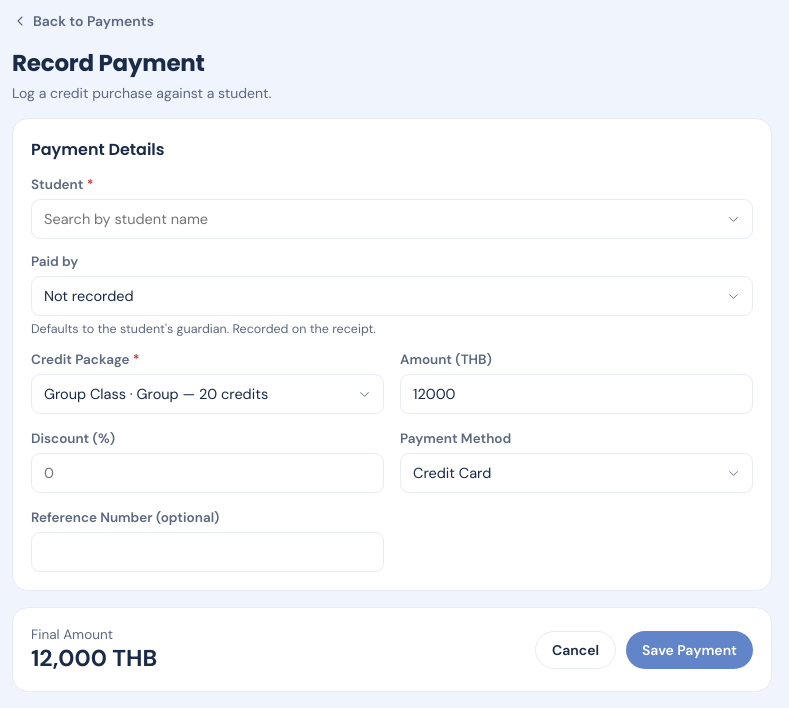
Scenario: picking a guardian › narrows the picker to their children when there are several
Select "Malee" in the dropdown labelled "Paid by" at (392, 296), box [31,276,753,316]
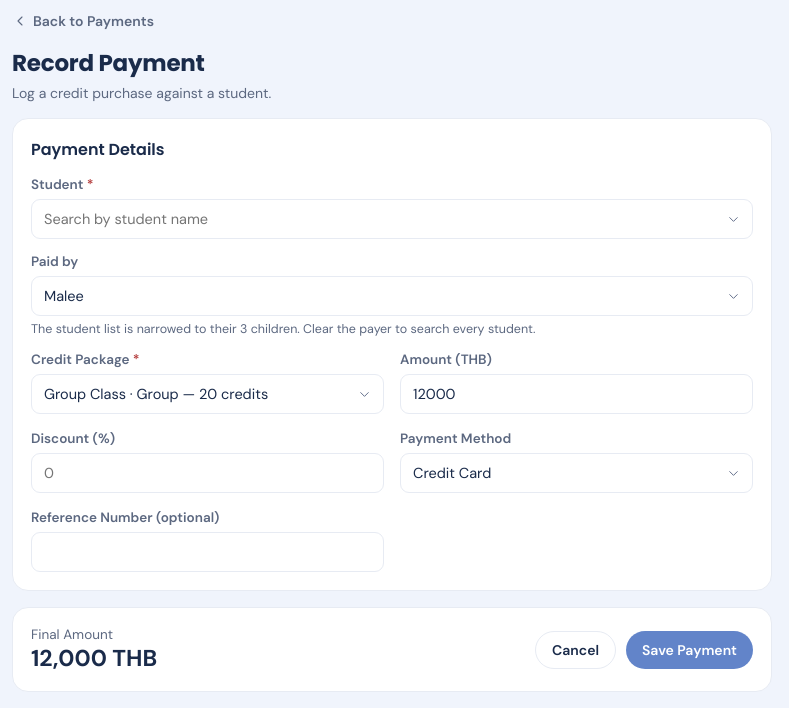
Click the dropdown labelled "Student *" at (392, 219), box [31,199,753,239]
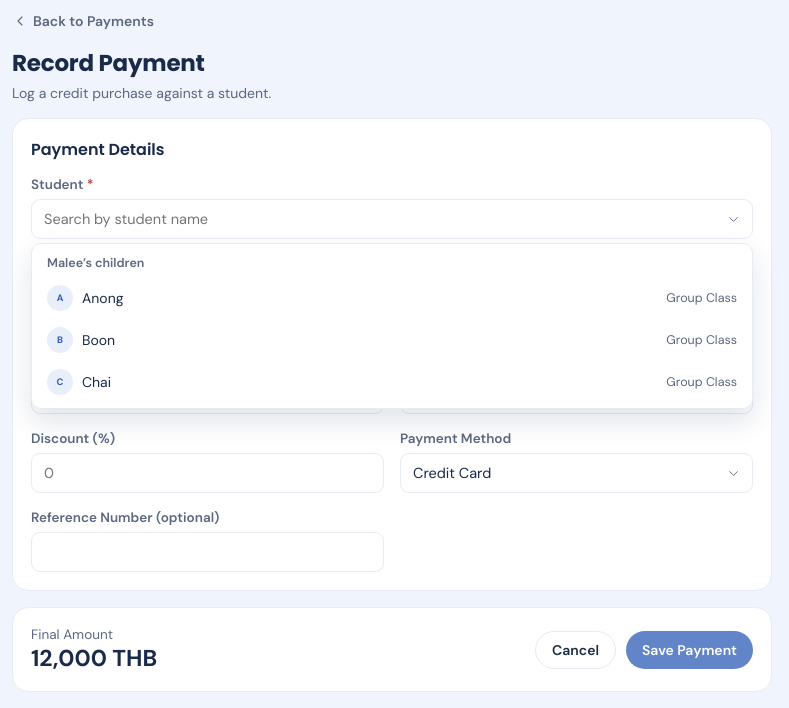
Check: the text "Malee’s children" is shown, box [47,255,144,271]
